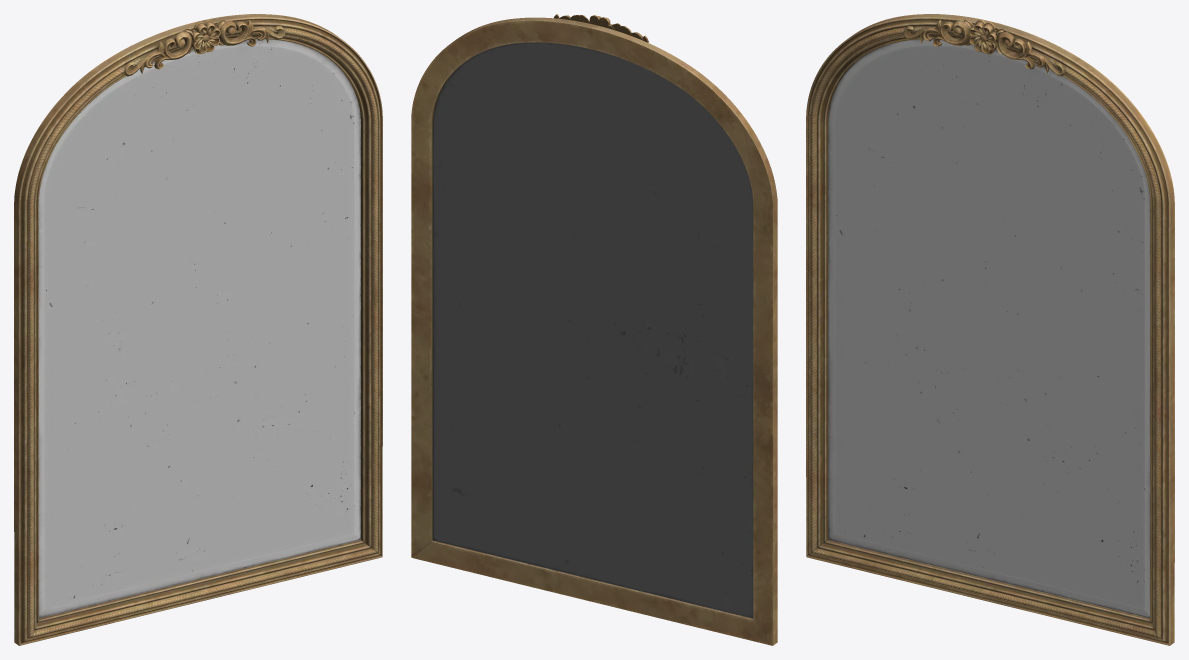
File: ph-ornate_mirror_01.glb
The picture shows the model from 3 angles, left to right: view 1: azimuth 30°, elevation 25°; view 2: azimuth 150°, elevation 25°; view 3: azimuth 330°, elevation 25°; orthographic projection.
Parts seen in each view (by area): view 1: ornate_mirror_01; view 2: ornate_mirror_01; view 3: ornate_mirror_01.
Part boxes in pixels (<box>): ornate_mirror_01: <box>14,14,382,645</box>; ornate_mirror_01: <box>411,14,777,645</box>; ornate_mirror_01: <box>806,14,1174,645</box>.
Size of the model in its own units: 0.6538 by 1 by 0.0349.
Materials: 1 (1 with a texture image).
